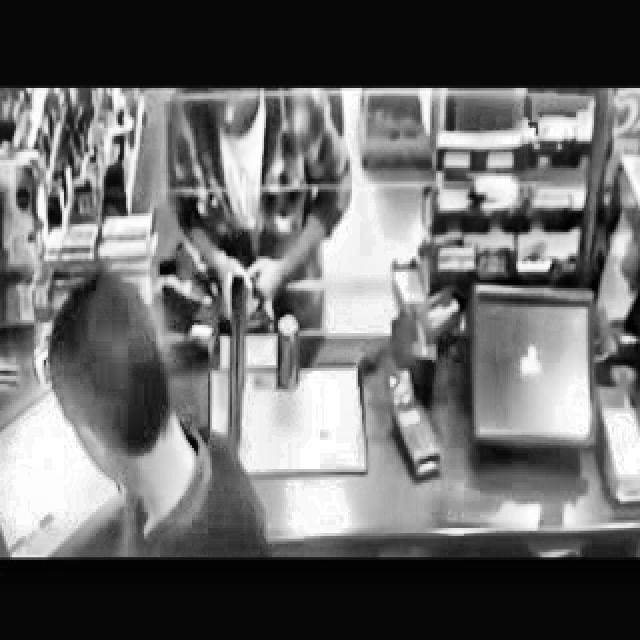robbery: (162, 86, 358, 455)
